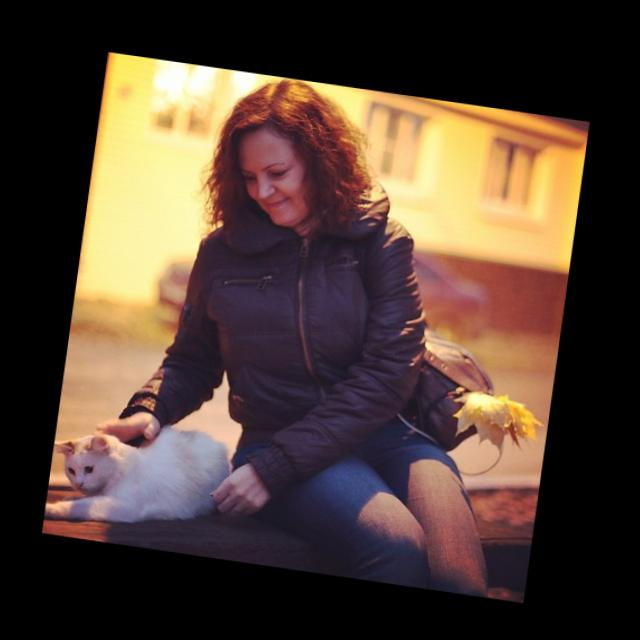animals: (45, 409, 238, 544)
